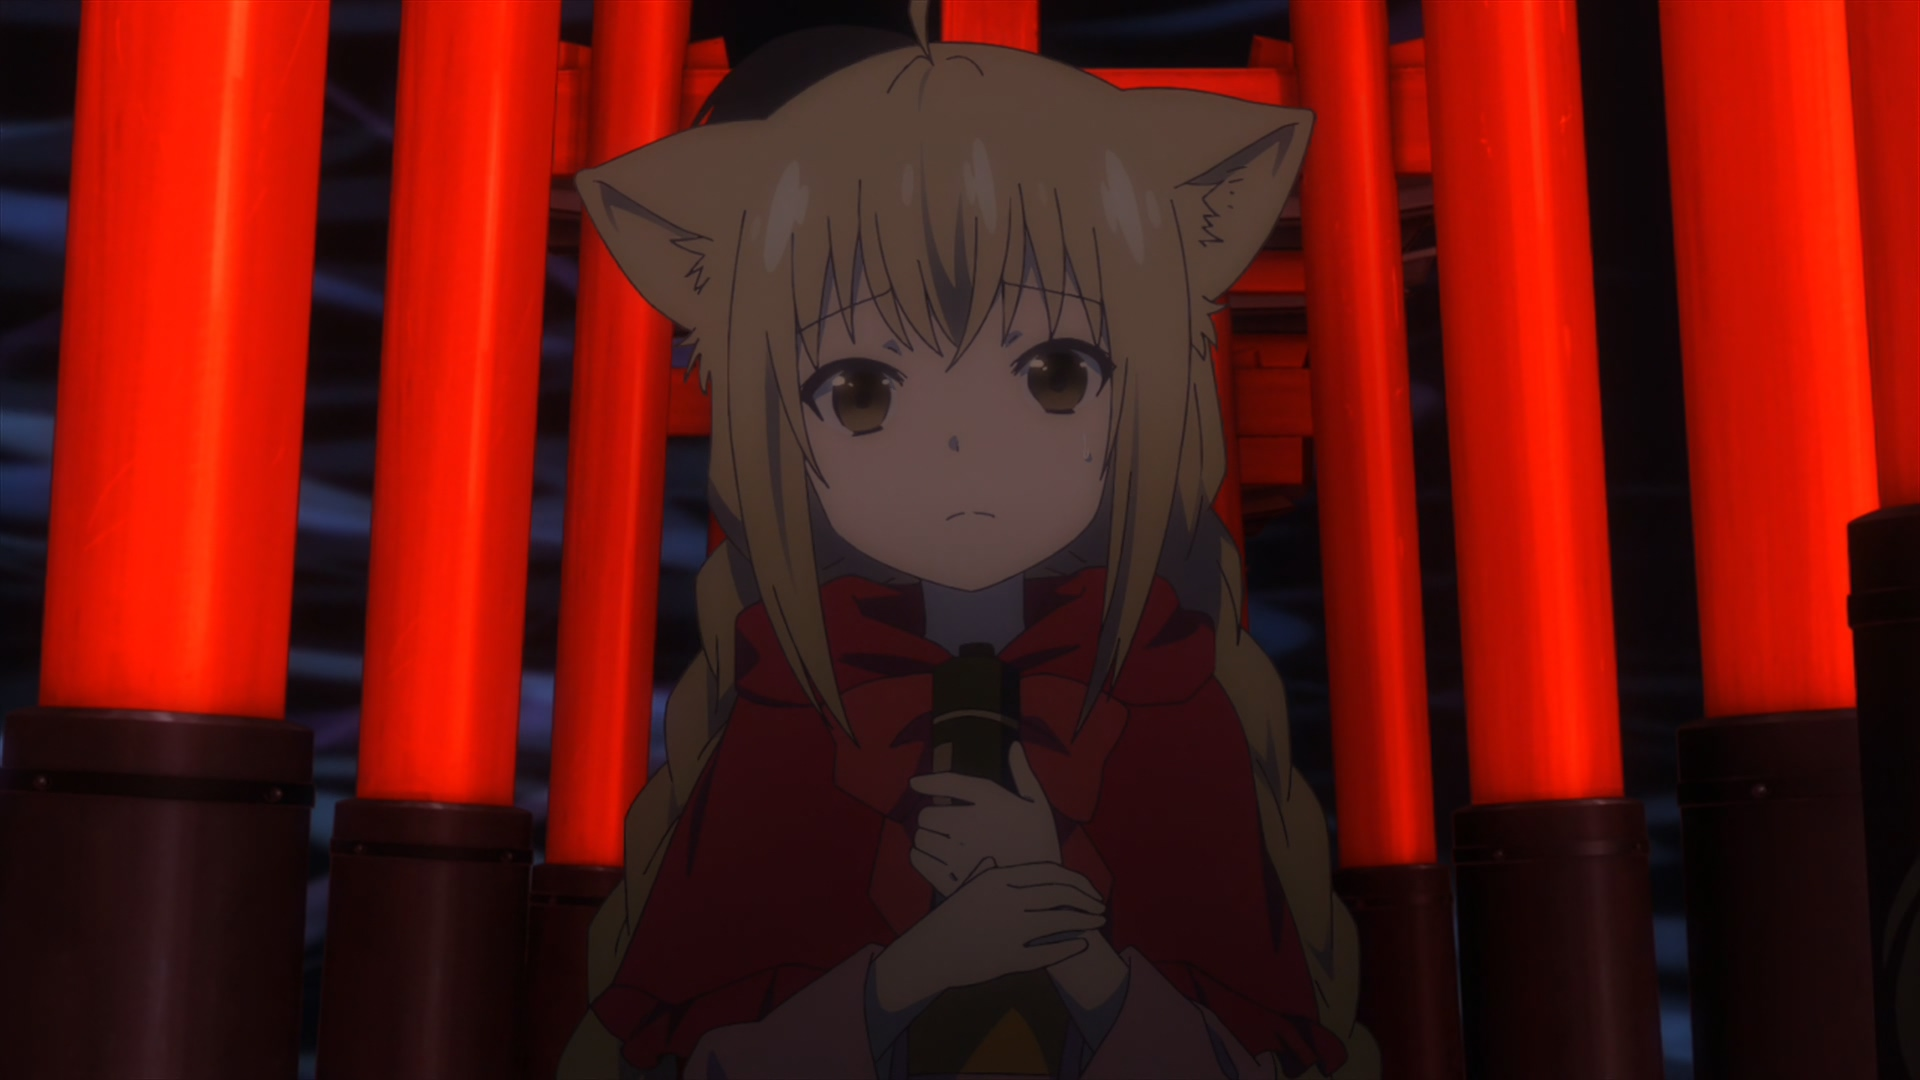柚: (574, 1, 1383, 1080)
